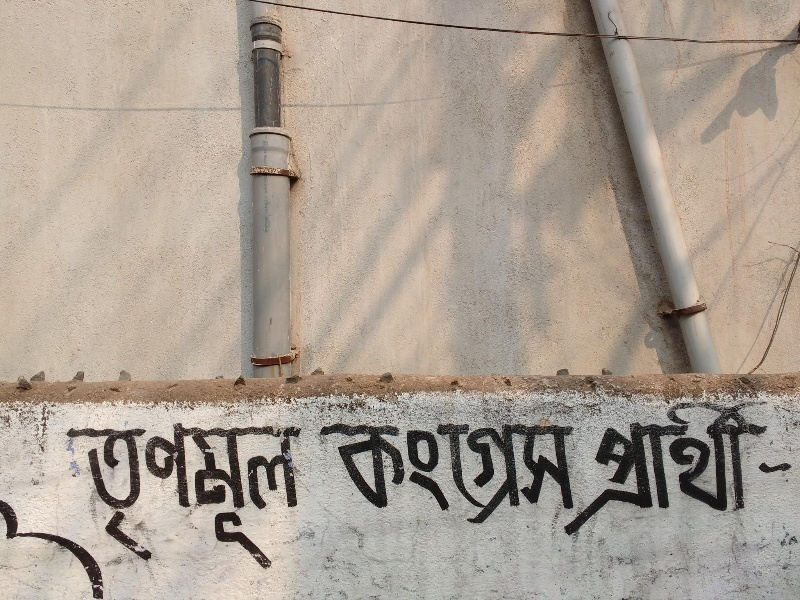text: (289, 421, 305, 572), (65, 421, 80, 572), (81, 421, 96, 572), (97, 421, 112, 572), (113, 421, 128, 572), (129, 421, 144, 572), (145, 421, 160, 572), (161, 421, 176, 572), (177, 421, 192, 572), (193, 421, 208, 572), (209, 421, 224, 572), (225, 421, 240, 572), (241, 421, 256, 572), (257, 421, 272, 572), (273, 421, 288, 572), (609, 399, 624, 549), (625, 399, 640, 549), (641, 399, 656, 549), (657, 399, 672, 549), (673, 399, 688, 549), (689, 399, 704, 549), (705, 399, 720, 549), (721, 399, 736, 549), (737, 399, 752, 549), (753, 399, 768, 549), (561, 422, 577, 547), (321, 422, 336, 547), (337, 422, 352, 547), (353, 422, 368, 547), (369, 422, 384, 547), (385, 422, 400, 547), (401, 422, 416, 547), (417, 422, 432, 547), (433, 422, 448, 547), (449, 422, 464, 547), (465, 422, 480, 547), (481, 422, 496, 547), (497, 422, 512, 547), (513, 422, 528, 547), (529, 422, 544, 547), (545, 422, 560, 547), (598, 399, 608, 549), (769, 399, 776, 549), (317, 422, 320, 547), (63, 421, 64, 572)
